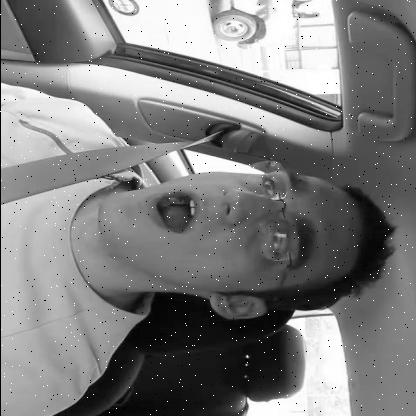seatbelt: (0, 145, 388, 332)
